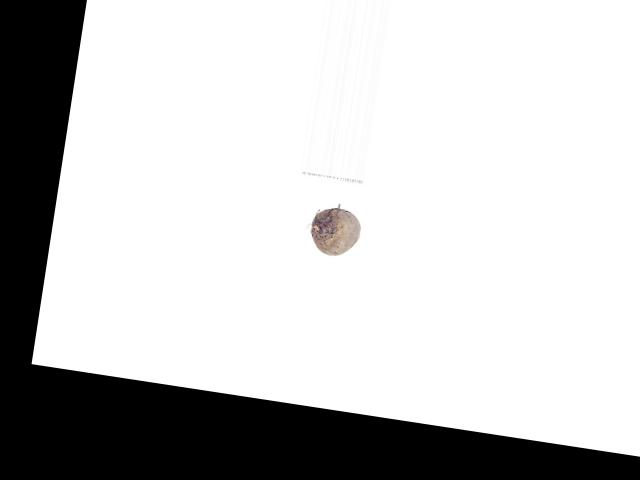beet: (309, 205, 364, 258)
